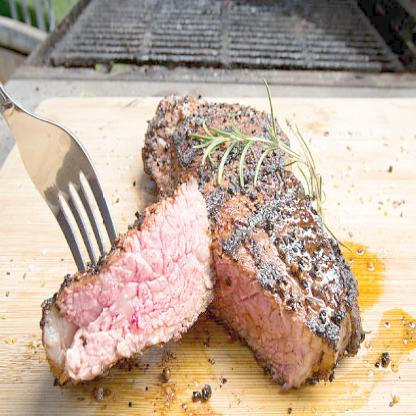Carne: (139, 88, 364, 389), (22, 183, 216, 386)
